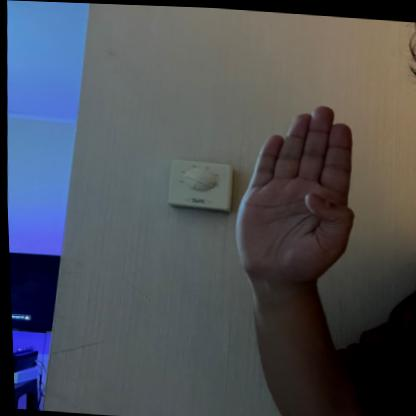B: (221, 95, 363, 280)
